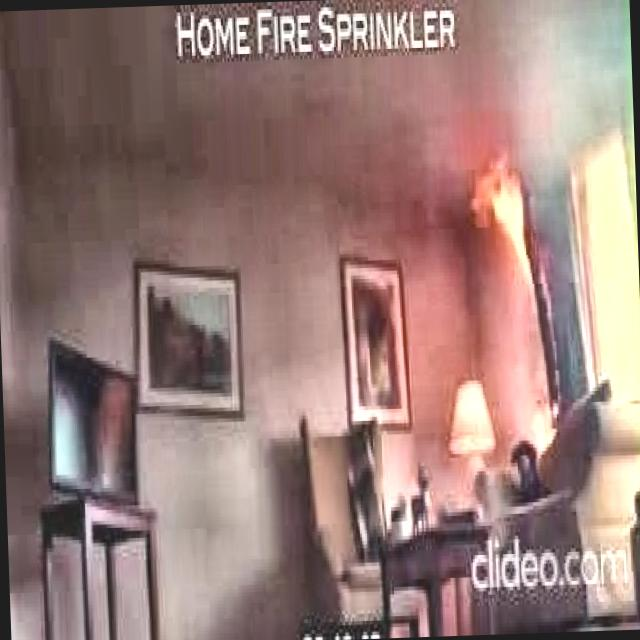fire: (456, 112, 567, 351)
